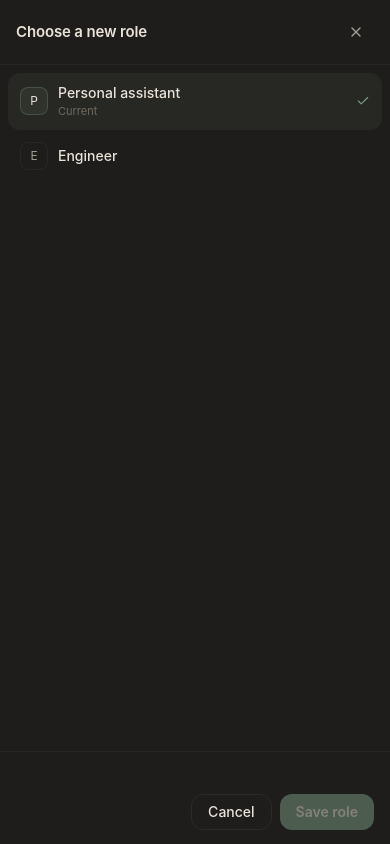
AssistantChangeRoleModal › refetches canonical state after an ambiguous PUT failure
The width and height of the screenshot is (390, 844).
Click the option "E Engineer".
click(88, 155)  # box [8, 132, 382, 180]
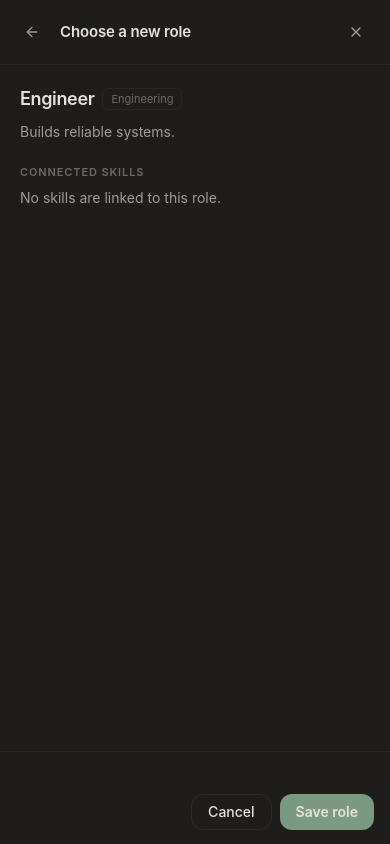
Click the button "Save role".
click(327, 812)  # box [280, 794, 374, 830]
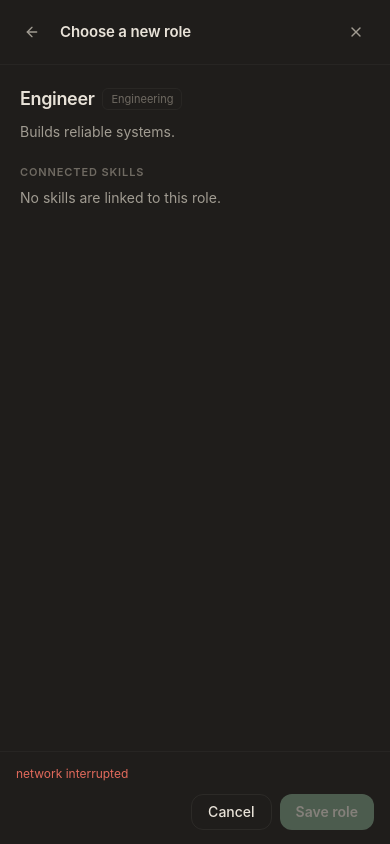
Result: the text "Builds reliable systems." is shown at [20, 123, 175, 140]
Result: the text "network interrupted" is shown at [16, 766, 128, 781]
